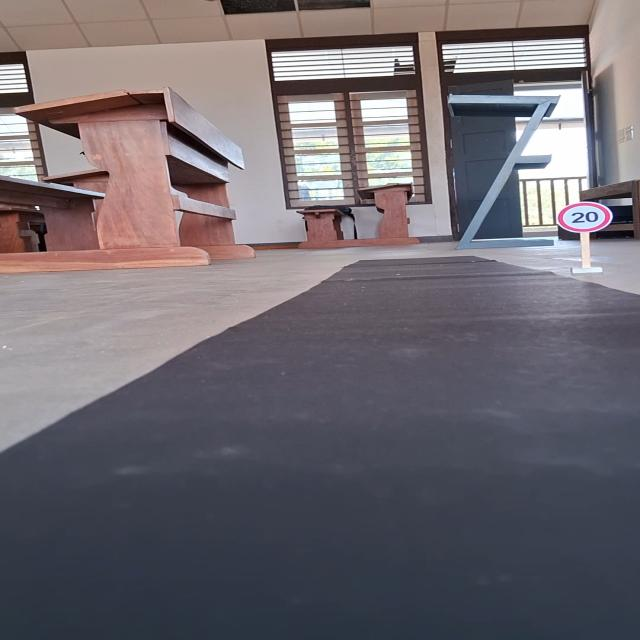Speed20: (550, 200, 616, 232)
